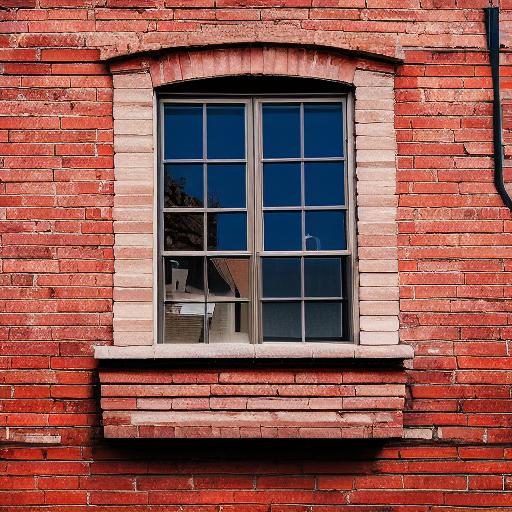Window: (92, 30, 418, 442)
